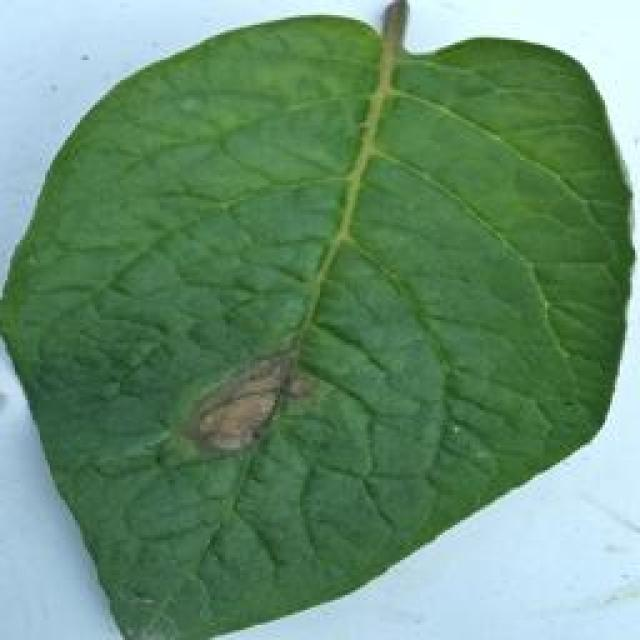Potato_Late_Blight: (4, 10, 622, 636)
